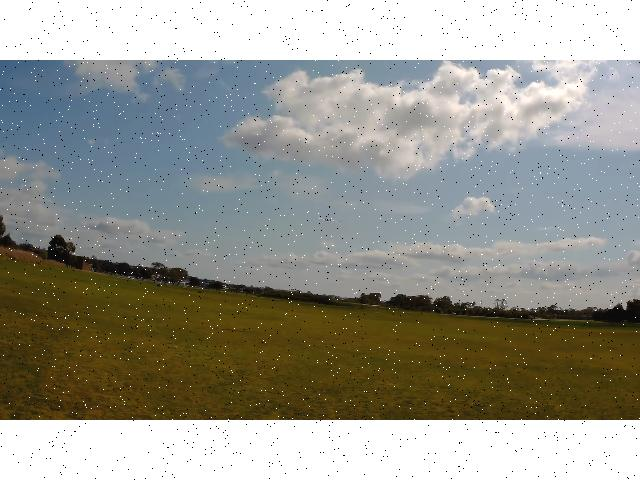Anti-Drone: (316, 218, 342, 223)
